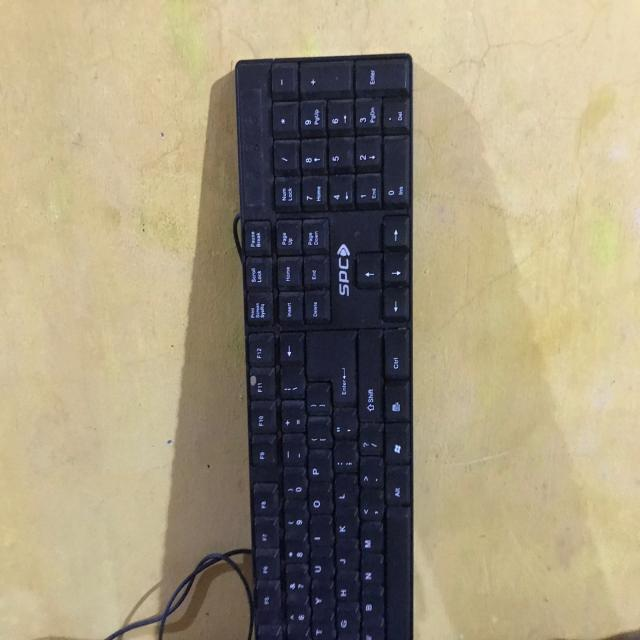-mouse-: (240, 56, 415, 640)
